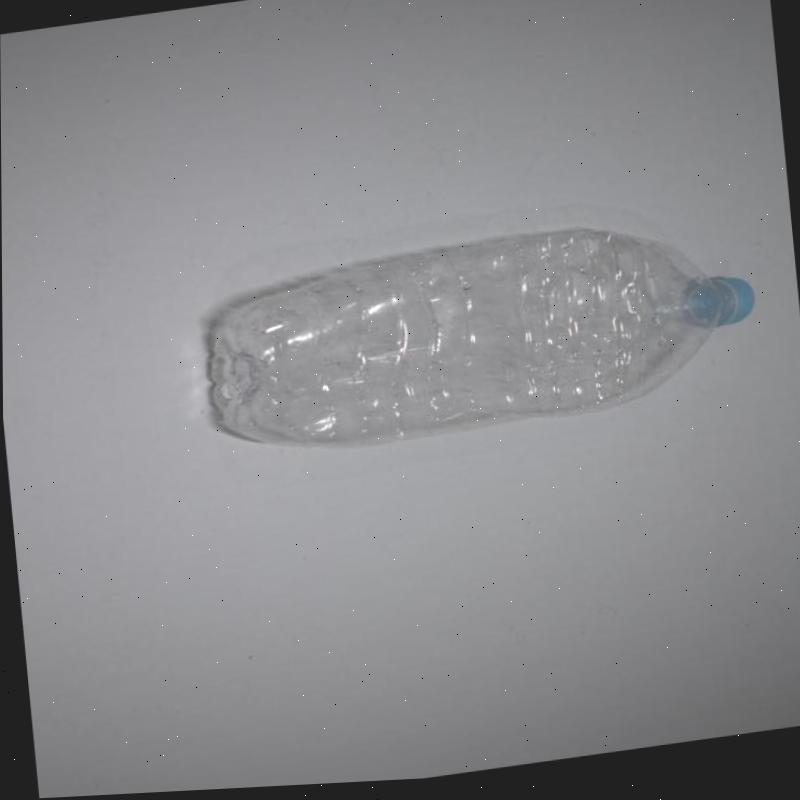botella: (197, 216, 760, 462)
